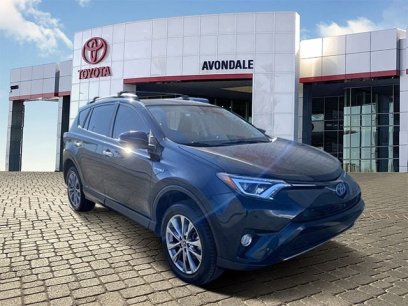Toyota RAV-4: (62, 96, 366, 287)
